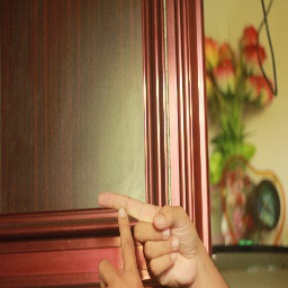T: (85, 185, 181, 283)
